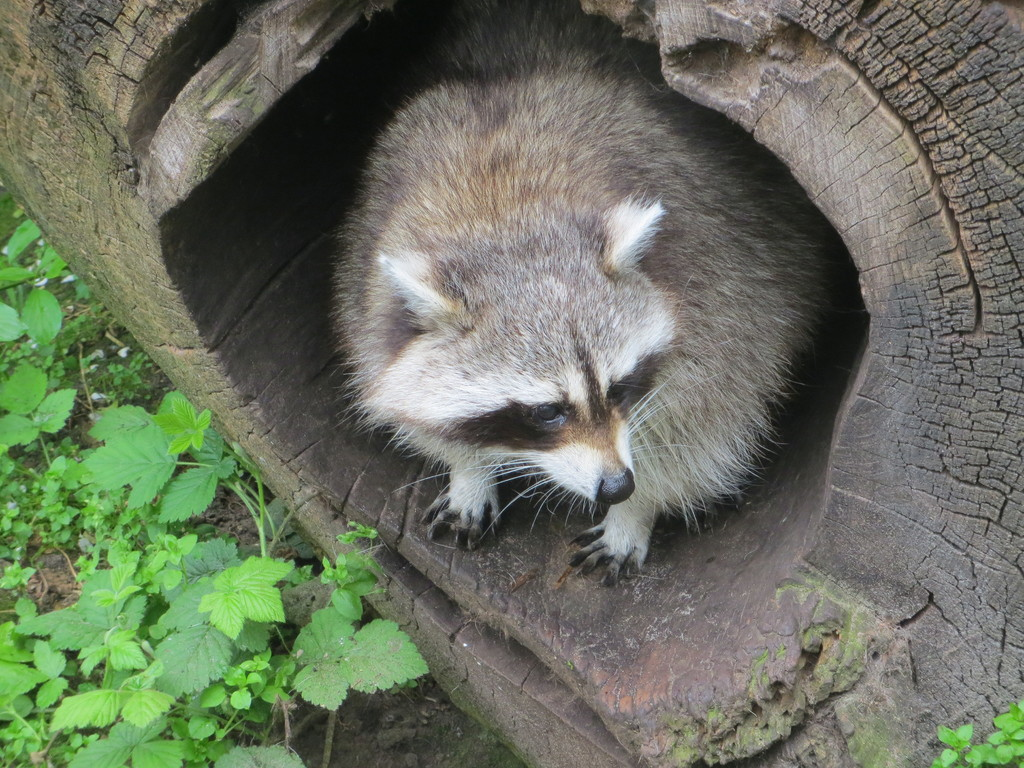raccoon: (328, 6, 830, 580)
